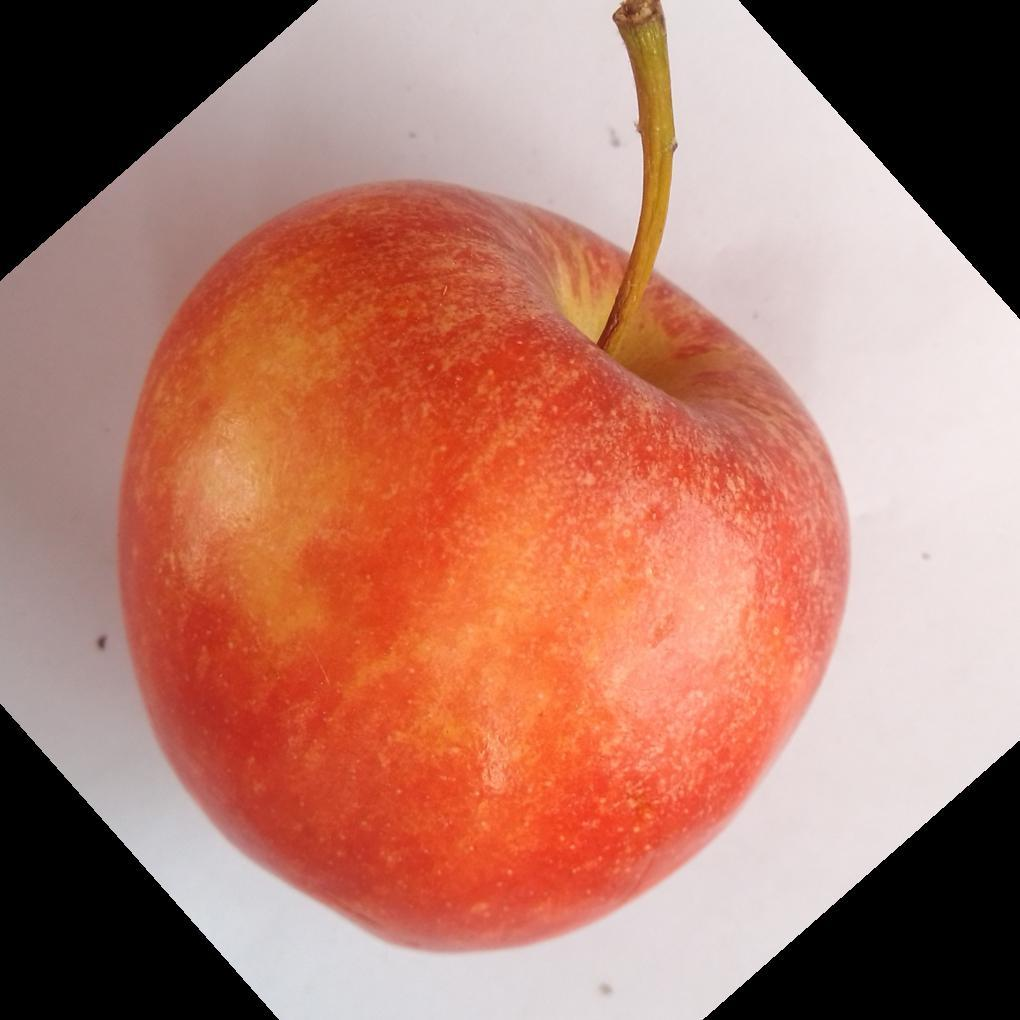FreshGuava: (111, 180, 852, 958)
